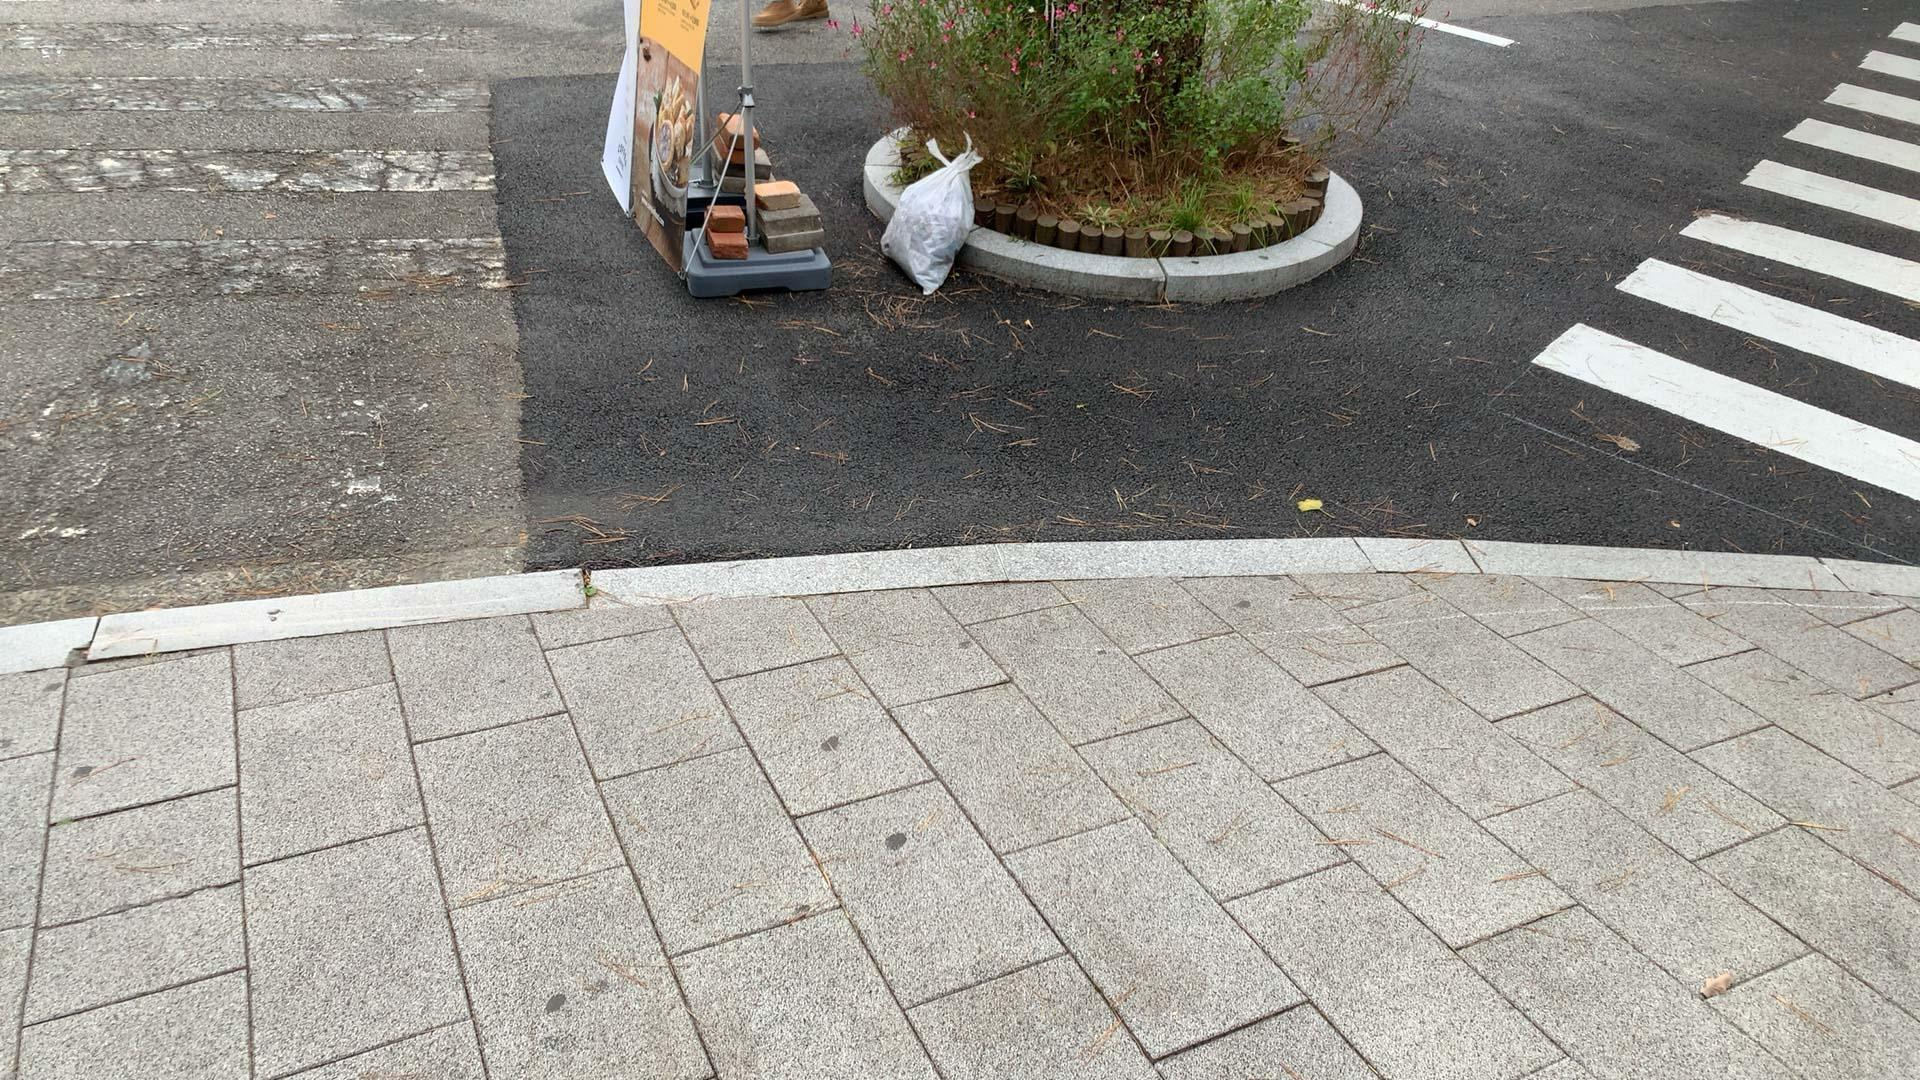white_bag: (869, 125, 996, 303)
